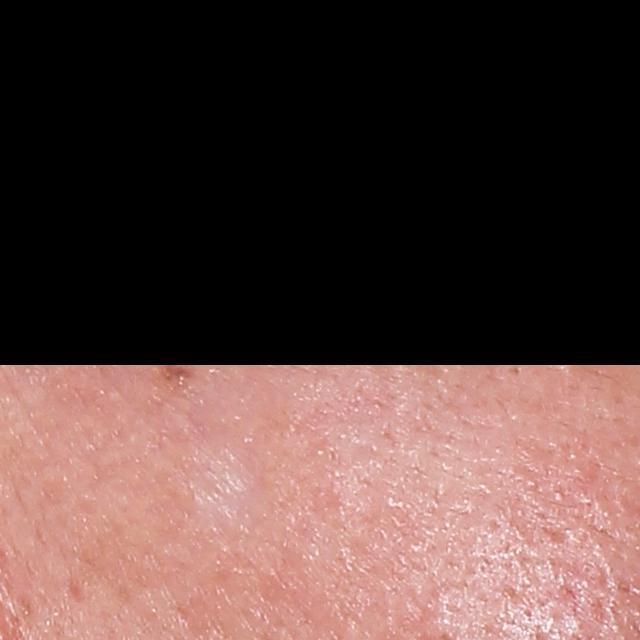nevus: (154, 353, 201, 392)
